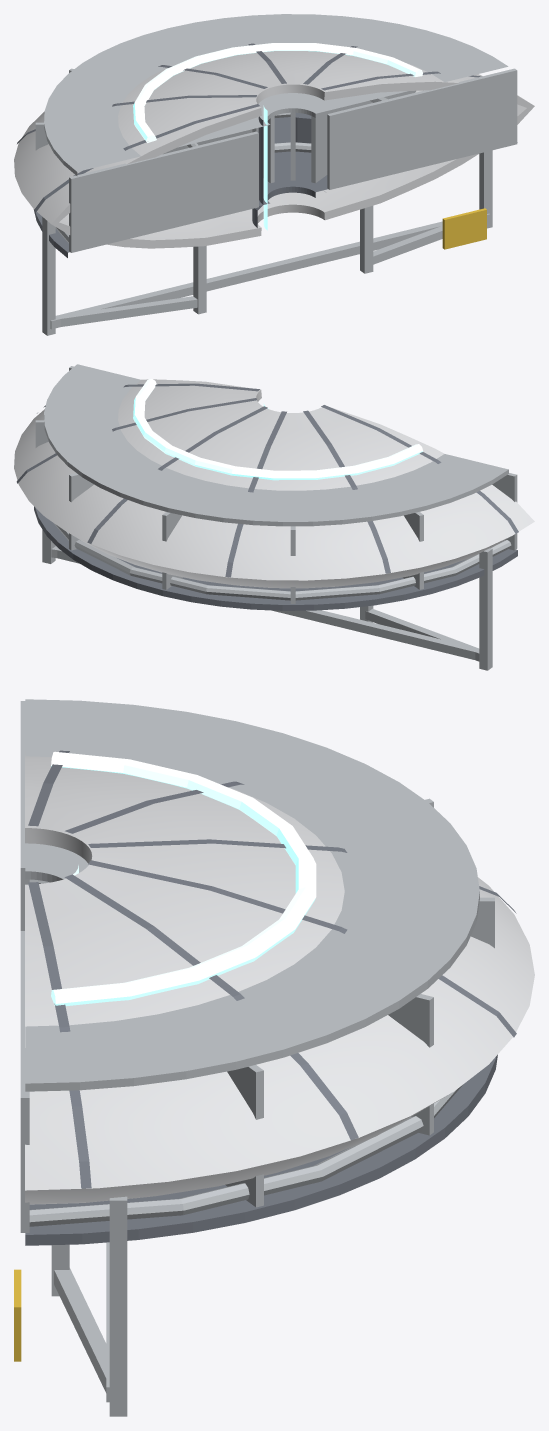
Rendered from ufo-crash-site-and-recovery-facility-cutaway-hull-sect-d9cf2ed0__17327.glb.
3 views of the same model, one above another, from view 1: azimuth 30°, elevation 25°; view 2: azimuth 150°, elevation 25°; view 3: azimuth 270°, elevation 25° (orthographic). The views are drawn at different scales.
Parts seen in each view (by area): view 1: cutaway-hull-section; view 2: cutaway-hull-section; view 3: cutaway-hull-section.
Part boxes in pixels (left/top/right/bottom): cutaway-hull-section: left=14, top=14, right=534, bottom=335; cutaway-hull-section: left=14, top=364, right=534, bottom=670; cutaway-hull-section: left=14, top=699, right=534, bottom=1416.
Size of the model in its own units: 6.84 by 2.7 by 3.49.
